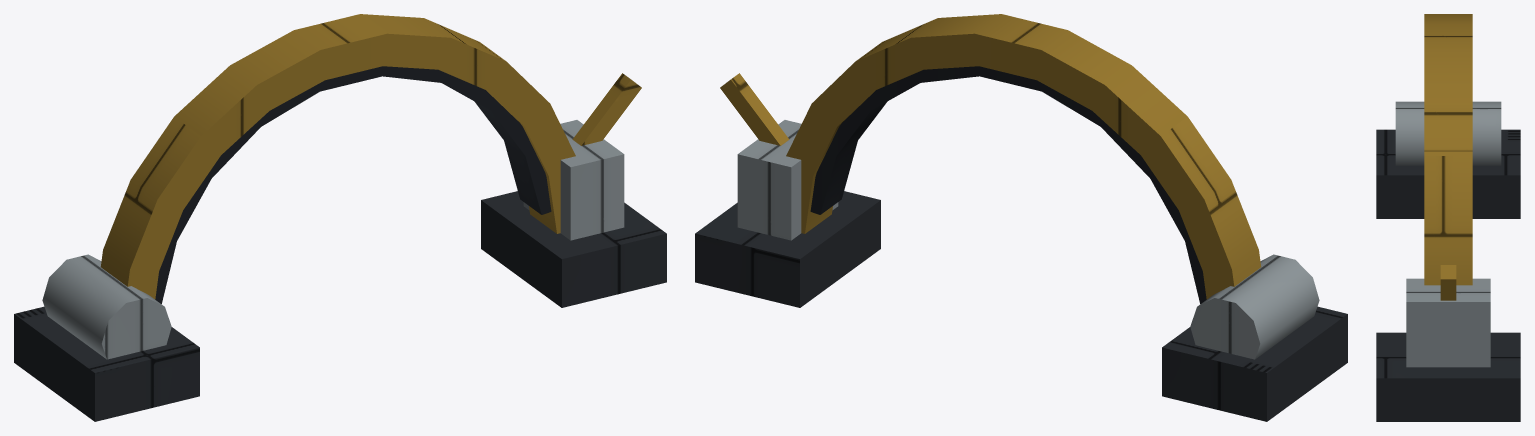
Rendered from cargo-load-restraint-hoop_lod2.glb.
The picture shows the model from 3 angles, left to right: view 1: azimuth 30°, elevation 25°; view 2: azimuth 150°, elevation 25°; view 3: azimuth 270°, elevation 25°; orthographic projection. The views are drawn at different scales.
Visible parts, largest first — view 1: LOD2_Livery, LOD2_Armor, LOD2_BrushedMetal, LOD2_MechanicalDark; view 2: LOD2_Livery, LOD2_Armor, LOD2_BrushedMetal, LOD2_MechanicalDark; view 3: LOD2_Armor, LOD2_Livery, LOD2_BrushedMetal.
Part boxes in pixels (left/top/right/bottom): LOD2_Livery: left=100, top=14, right=641, bottom=299; LOD2_Armor: left=14, top=191, right=666, bottom=421; LOD2_BrushedMetal: left=42, top=120, right=624, bottom=359; LOD2_MechanicalDark: left=155, top=66, right=551, bottom=303; LOD2_Livery: left=720, top=14, right=1261, bottom=299; LOD2_Armor: left=695, top=191, right=1347, bottom=421; LOD2_BrushedMetal: left=737, top=120, right=1319, bottom=359; LOD2_MechanicalDark: left=810, top=66, right=1206, bottom=303; LOD2_Armor: left=1376, top=129, right=1520, bottom=421; LOD2_Livery: left=1424, top=14, right=1472, bottom=300; LOD2_BrushedMetal: left=1395, top=101, right=1501, bottom=367.
Size of the model in its own units: 2.5 by 1.19 by 0.6.
Materials: 4 (4 with a texture image).
